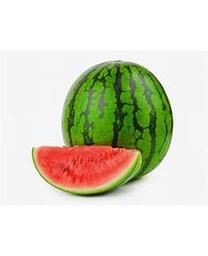watermelon: (59, 59, 174, 182), (30, 145, 141, 198)
